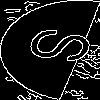S: (25, 25, 100, 70)
